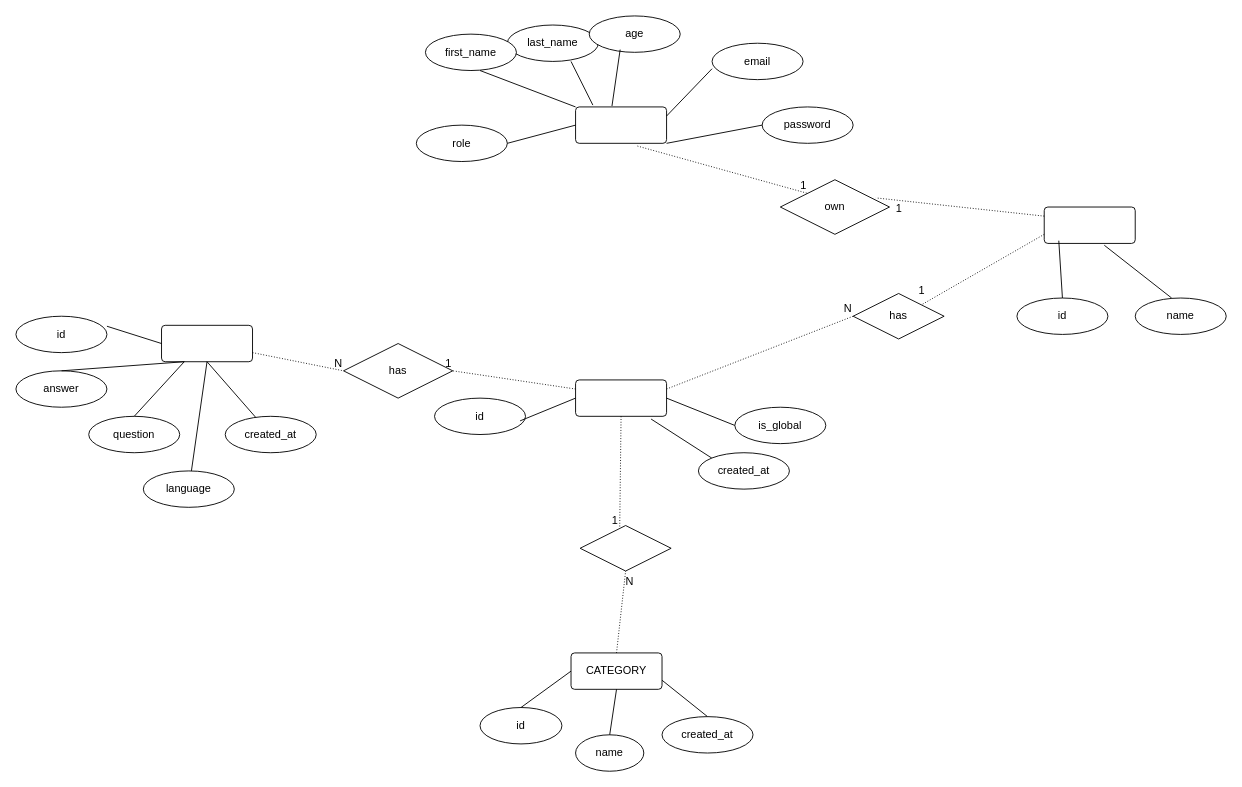
Some shapes in this 1242 by 787 pixel diagram are drawn without their labels. The centre of each missing label's shape, as x and y in pixels:
FAQ: the point at 621,397
in: the point at 625,548
STORE: the point at 1089,224
TRANSLATION: the point at 207,343
USER: the point at 621,124
